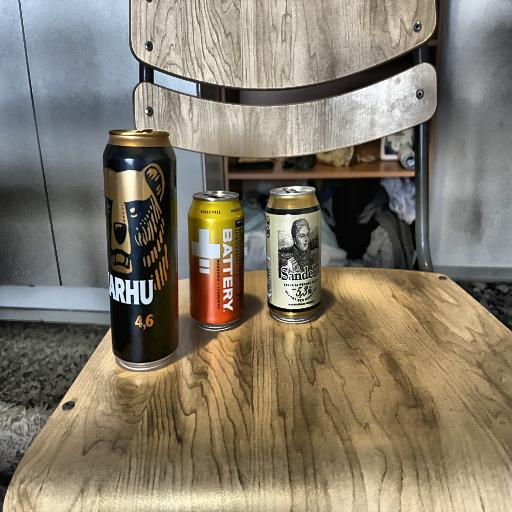karhu: (98, 126, 181, 370)
sandels: (258, 180, 335, 328)
